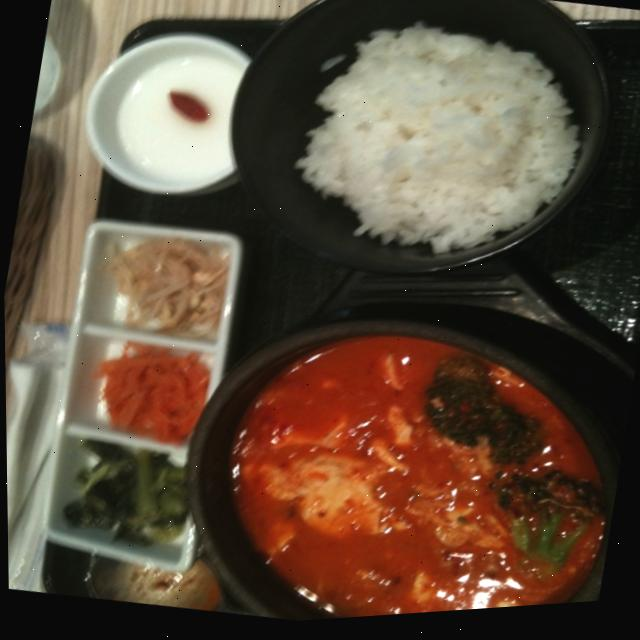米饭主食: (205, 0, 633, 321)
